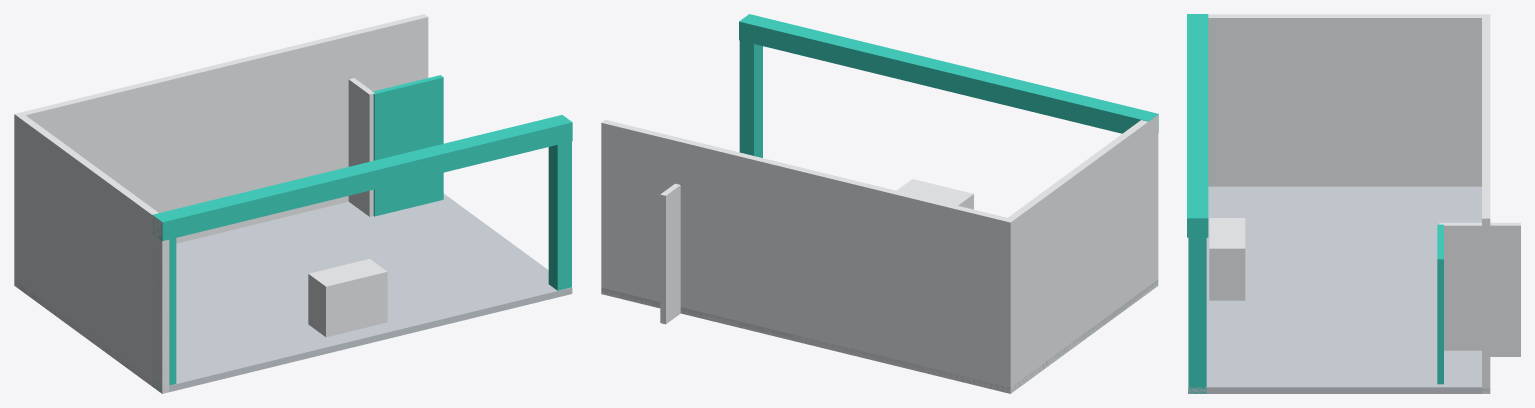
The picture shows the model from 3 angles, left to right: view 1: azimuth 30°, elevation 25°; view 2: azimuth 150°, elevation 25°; view 3: azimuth 270°, elevation 25°; orthographic projection. The views are drawn at different scales.
Visible parts, largest first — view 1: Exhibition Booth Concept; view 2: Exhibition Booth Concept; view 3: Exhibition Booth Concept.
Part boxes in pixels (x1=…): Exhibition Booth Concept: x1=14, y1=14, x2=572, y2=393; Exhibition Booth Concept: x1=601, y1=14, x2=1158, y2=393; Exhibition Booth Concept: x1=1187, y1=14, x2=1520, y2=393.
Bounding box in the file's own units: 8 × 3.2 × 5.52.
